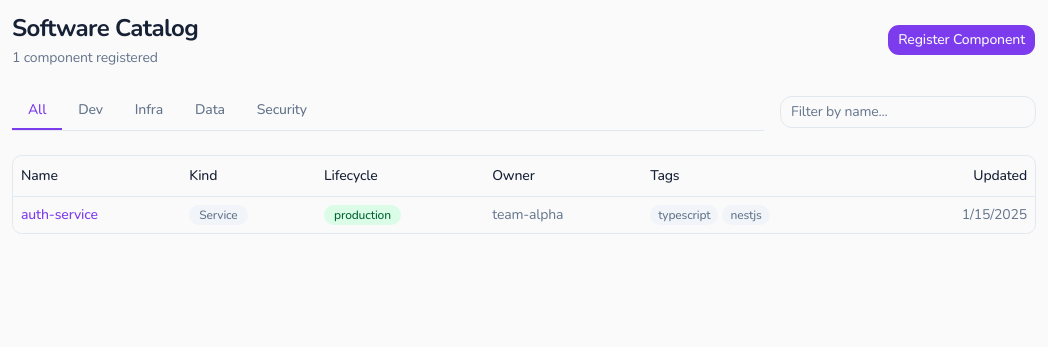
it: CatalogClient › shows filter-specific empty state when search yields no matches
The image size is (1048, 347).
Expected: the link "auth-service" is shown, [21,204,98,224]
In the field with placeholder "Filter by name...": (908, 112) [780,96,1036,128], type "nonexistent-xyz"
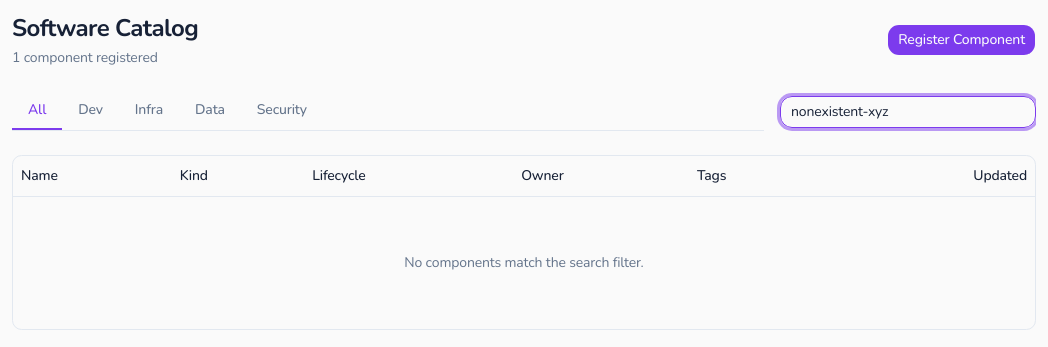
Now the text "No components match the search filter." is shown, box [404,252,644,272]
